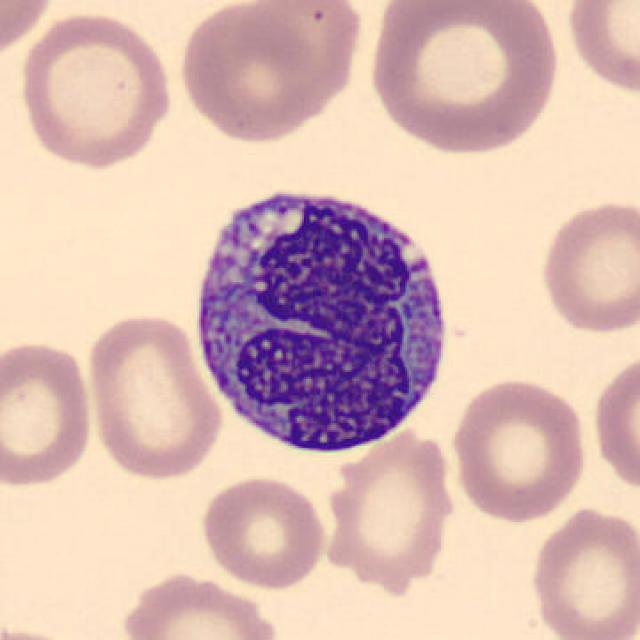Monocyte: (185, 171, 462, 462)
RBC: (363, 0, 565, 157), (172, 0, 366, 145), (14, 7, 176, 173), (82, 310, 226, 483), (318, 423, 459, 589), (448, 374, 590, 525), (196, 470, 330, 590), (526, 500, 640, 640), (0, 335, 96, 492), (535, 196, 638, 336), (117, 569, 283, 640), (560, 0, 640, 99), (590, 347, 638, 499), (0, 0, 60, 61)
